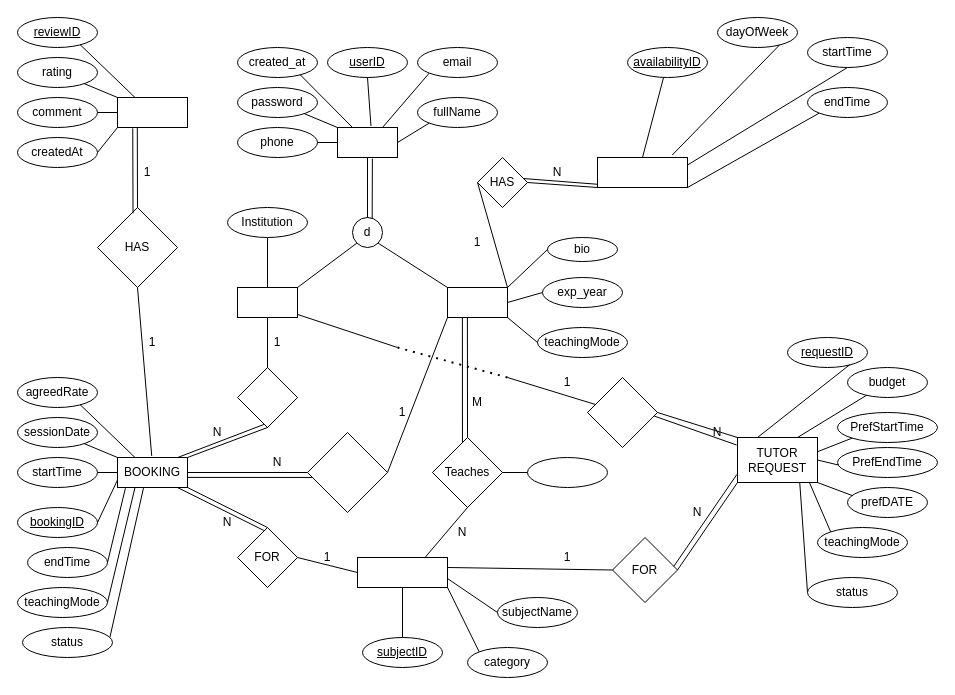
Some shapes in this 955 by 695 pixel diagram are drawn without their labels. Each missing label, with the box of its shape:
AVAILABILITY: (596, 156, 688, 188)
hourlyRate: (526, 456, 608, 488)
MAKES: (236, 366, 298, 428)
POSTS: (586, 376, 658, 448)
RECIEVES: (306, 432, 388, 512)
REVIEW: (116, 96, 188, 128)
STUDENT: (236, 286, 298, 318)
SUBJECT: (356, 556, 448, 588)
TUTOR: (446, 286, 508, 318)
USER: (336, 126, 398, 158)
